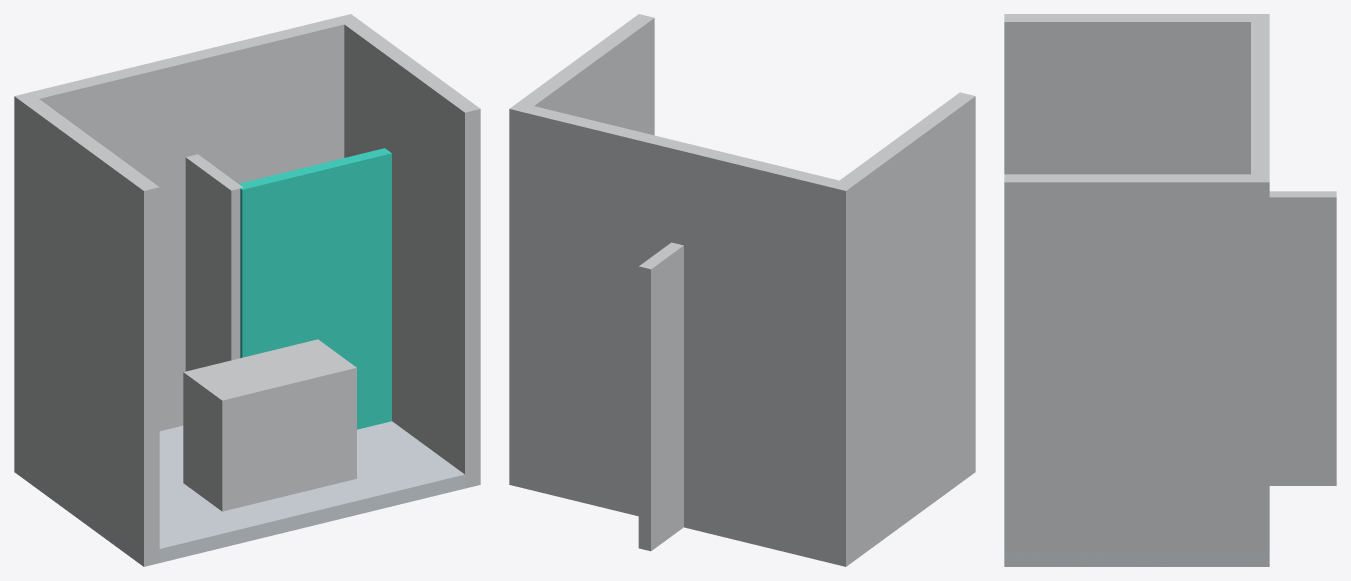
3 renders of one model, left to right at view 1: azimuth 30°, elevation 25°; view 2: azimuth 150°, elevation 25°; view 3: azimuth 270°, elevation 25°, orthographic. The views are drawn at different scales.
Parts seen in each view (by area): view 1: Exhibition Booth Concept; view 2: Exhibition Booth Concept; view 3: Exhibition Booth Concept.
Boxes of the visible parts, x1=… form: Exhibition Booth Concept: x1=14, y1=14, x2=480, y2=566; Exhibition Booth Concept: x1=509, y1=14, x2=975, y2=566; Exhibition Booth Concept: x1=1004, y1=14, x2=1336, y2=566.
Size of the model in its own units: 3 by 3.2 by 2.5.
